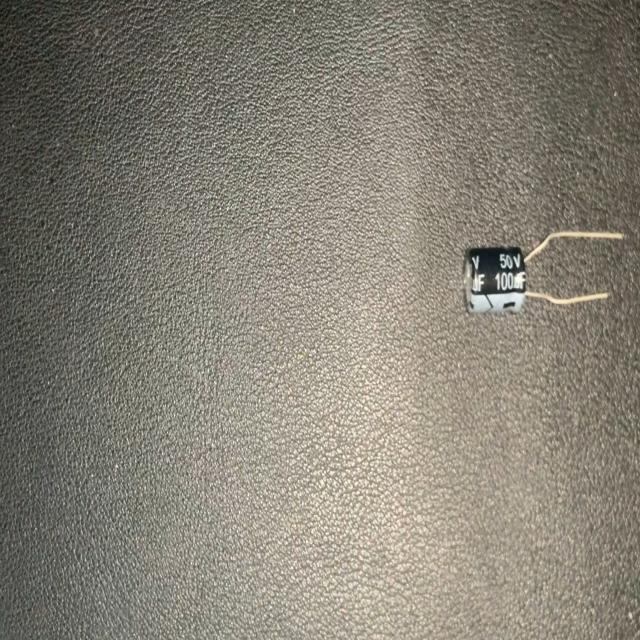capacitor: (460, 228, 621, 319)
